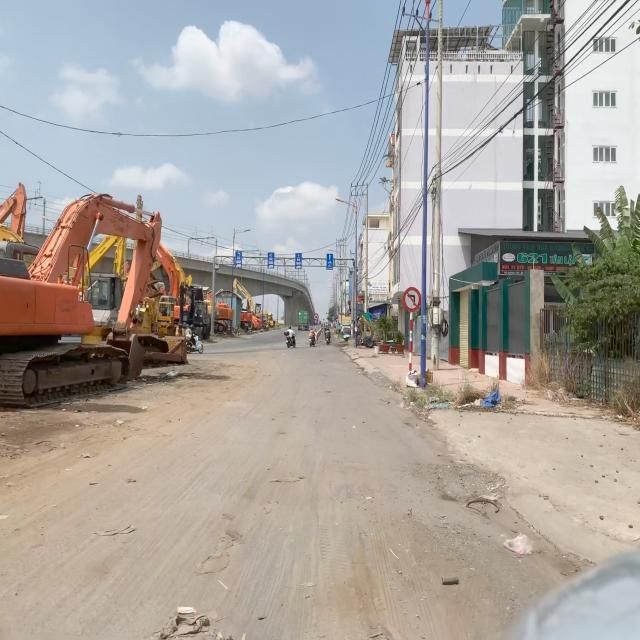Cam con lai: (313, 313, 319, 321)
Cam re trai: (403, 287, 422, 312)
